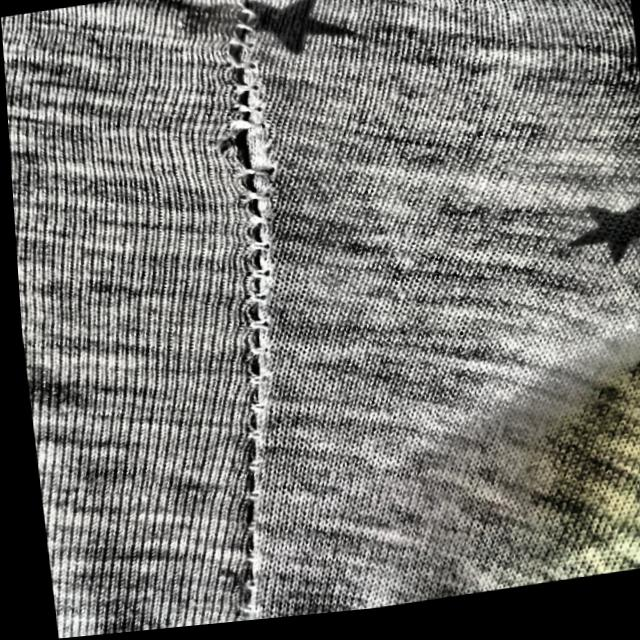Stitch: (162, 47, 318, 250)
